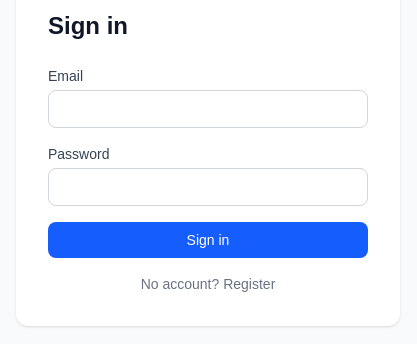
Test case: LoginPage › disables the submit button while loading
Type "user@example.com" into the field with test id "login-form-email-input".
click(208, 109); type("user@example.com")  # box left=48, top=90, right=368, bottom=128
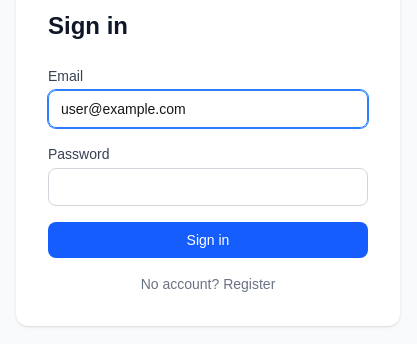
Type "password123" into the password field with test id "login-form-password-input".
click(208, 187); type("password123")  # box left=48, top=168, right=368, bottom=206
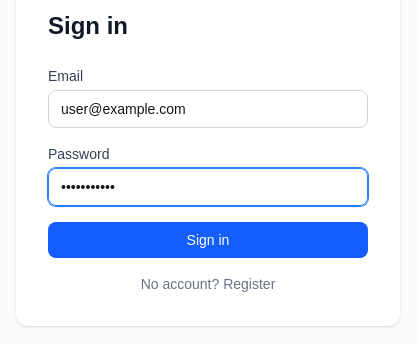
Click the button with test id "login-form-submit-btn".
click(208, 240)  # box left=48, top=222, right=368, bottom=258
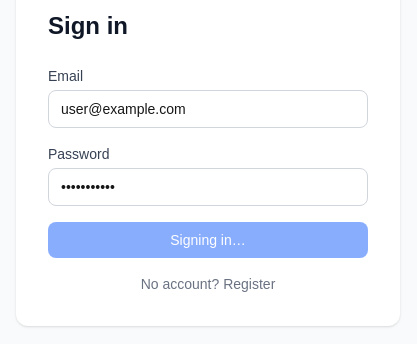
expect the button with test id "login-form-submit-btn" is disabled: met, box left=48, top=222, right=368, bottom=258
